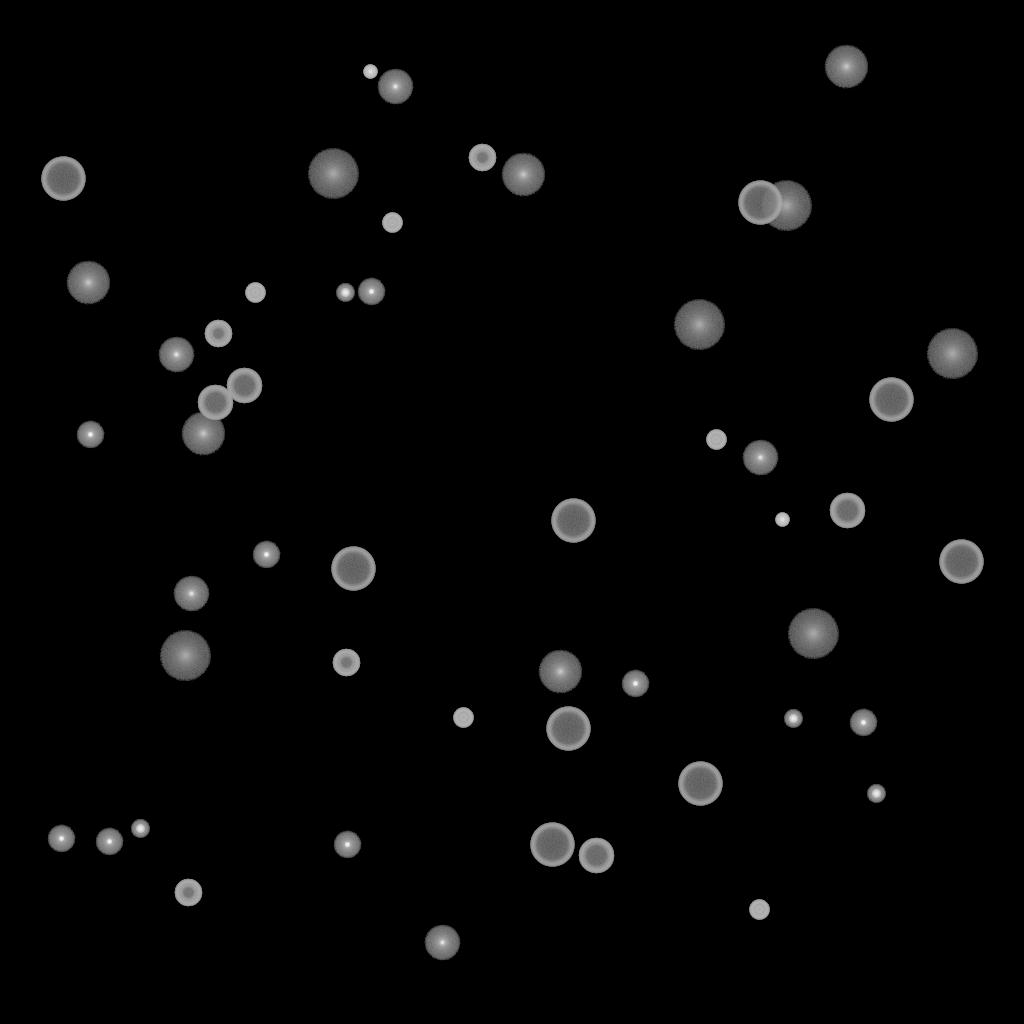depth:-10: (95, 828, 123, 856), (76, 421, 104, 449), (47, 825, 75, 853), (333, 831, 361, 859), (849, 709, 877, 737), (252, 541, 280, 569), (357, 278, 385, 306), (621, 670, 649, 698)
depth:-20: (336, 284, 354, 302), (867, 785, 885, 803), (784, 710, 802, 728), (131, 820, 149, 838)
depth:-30: (363, 65, 377, 79), (775, 513, 789, 527)
depth:-40: (749, 900, 769, 920), (382, 213, 402, 233), (245, 283, 265, 303), (706, 430, 726, 450), (453, 708, 473, 728)
depth:-50: (174, 879, 202, 907), (332, 649, 360, 677), (204, 320, 232, 348), (468, 144, 496, 172)
depth:-60: (829, 493, 865, 529), (578, 838, 614, 874), (197, 385, 233, 421), (226, 368, 262, 404)
depth:-70: (551, 499, 595, 543), (738, 181, 782, 225), (331, 547, 375, 591), (869, 378, 913, 422), (678, 762, 722, 806), (939, 540, 983, 584), (546, 707, 590, 751), (41, 157, 85, 201), (530, 823, 574, 867)
depth:0: (742, 440, 778, 476), (377, 69, 413, 105), (158, 337, 194, 373), (424, 925, 460, 961), (173, 576, 209, 612)
depth:10: (824, 45, 868, 89), (66, 261, 110, 305), (181, 412, 225, 456), (501, 153, 545, 197), (538, 650, 582, 694)
depth:20: (307, 149, 359, 199), (159, 631, 211, 681), (760, 181, 812, 231), (787, 609, 839, 659), (673, 300, 725, 350), (926, 329, 978, 379)
